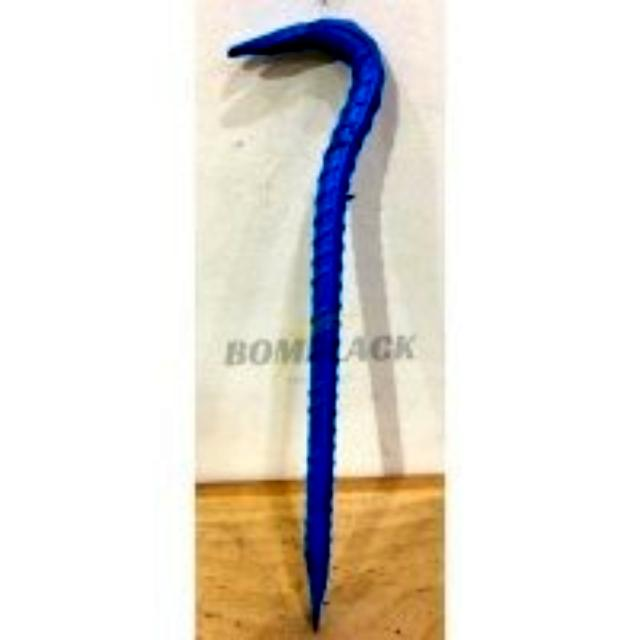crow bar: (212, 16, 410, 639)
